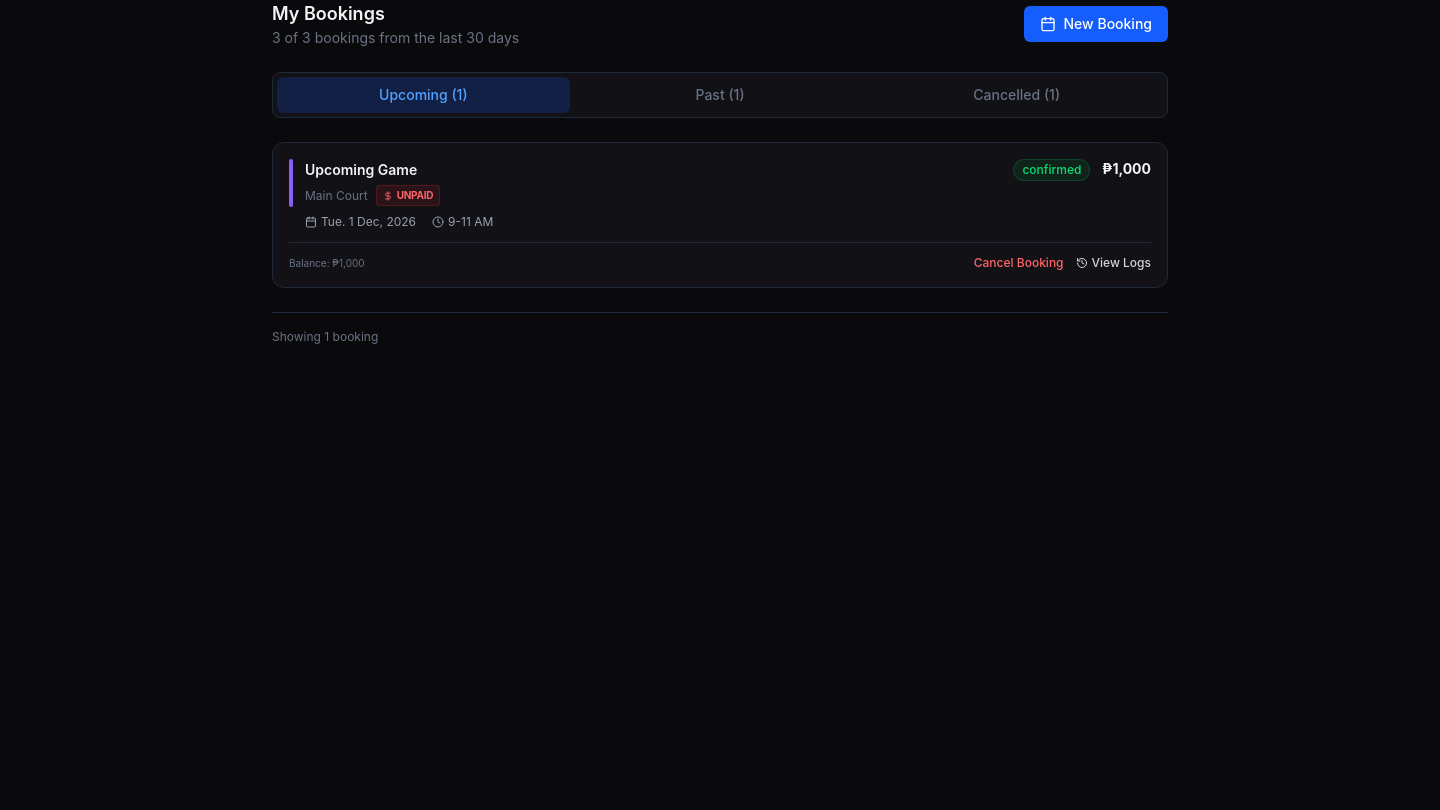
MyBookingsPage › opens detail sheet when clicking a booking
This screenshot has width=1440, height=810.
Step 1. Click the heading "Upcoming Game" → [361, 170], box x1=305 y1=160 x2=417 y2=180
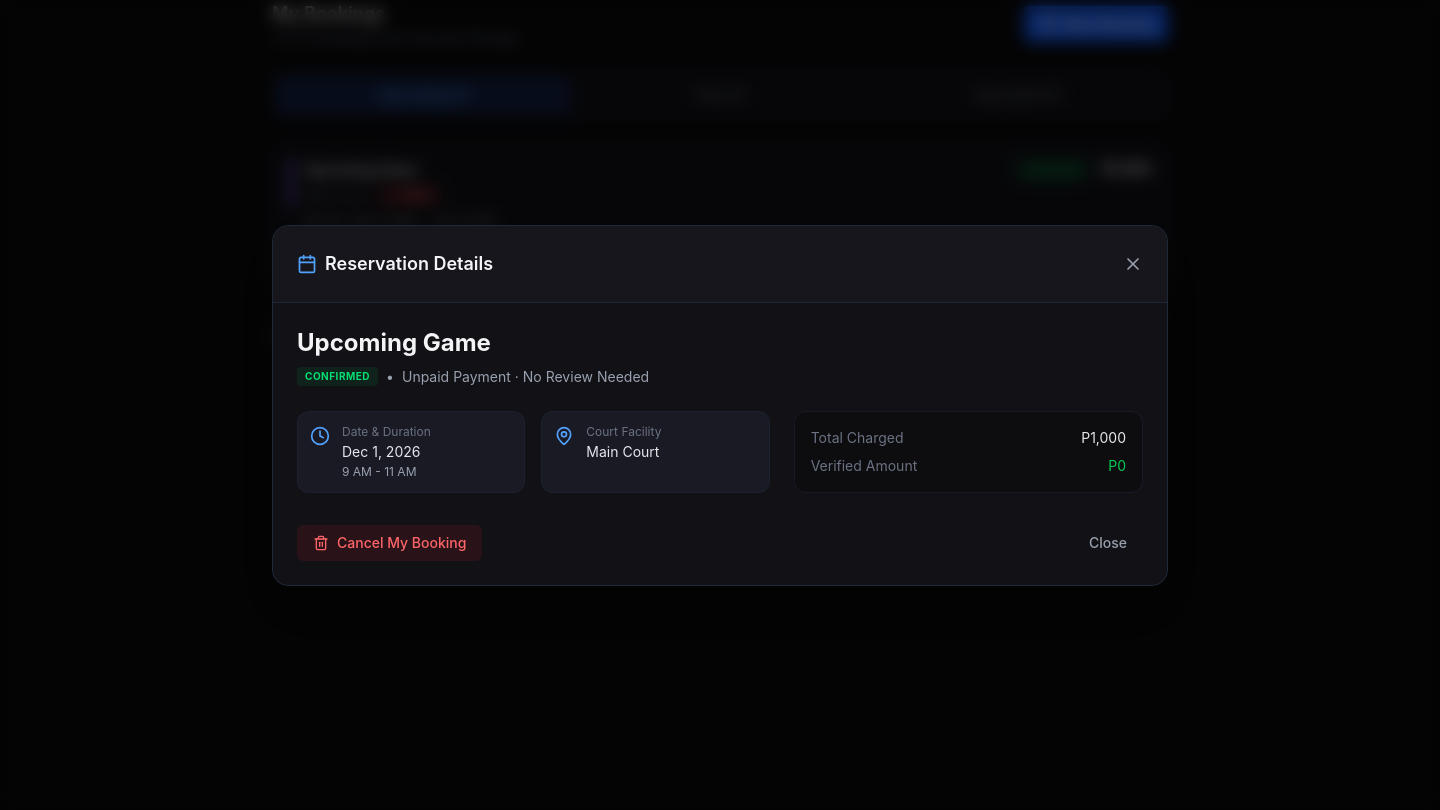
Expected: the heading "Reservation Details" is shown, x1=297 y1=250 x2=493 y2=278
